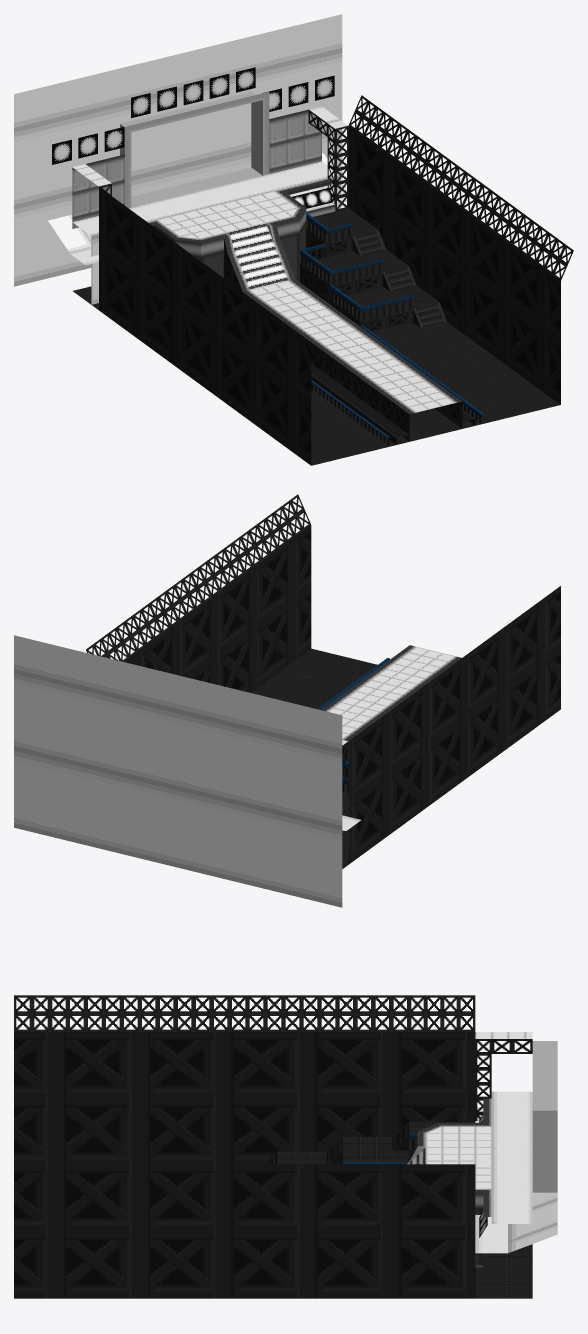
File: WALKWAYGYM2.obj
3 renders of one model, top to bottom at view 1: azimuth 30°, elevation 25°; view 2: azimuth 150°, elevation 25°; view 3: azimuth 270°, elevation 25°, orthographic. The views are drawn at different scales.
Visible parts, largest first — view 1: polygon8, polygon4, polygon6, polygon2, polygon10, polygon0, polygon7, polygon3, polygon1, polygon5, polygon9; view 2: polygon4, polygon8, polygon10, polygon6, polygon3; view 3: polygon8, polygon10, polygon4, polygon2, polygon6, polygon1, polygon0, polygon3.
Boxes of the visible parts, x1,y1,x2,y2 form: polygon8: (99, 126, 560, 465); polygon4: (14, 14, 455, 412); polygon6: (73, 286, 560, 465); polygon2: (72, 92, 335, 282); polygon10: (99, 95, 573, 280); polygon0: (300, 213, 483, 445); polygon7: (52, 67, 334, 208); polygon3: (148, 178, 461, 413); polygon1: (300, 208, 438, 321); polygon5: (227, 223, 288, 290); polygon9: (311, 363, 475, 444); polygon4: (14, 635, 455, 907); polygon8: (124, 525, 560, 864); polygon10: (86, 494, 310, 661); polygon6: (251, 648, 377, 868); polygon3: (321, 645, 461, 741); polygon8: (14, 1032, 475, 1298); polygon10: (14, 995, 532, 1120); polygon4: (425, 1032, 557, 1253); polygon2: (475, 1041, 557, 1267); polygon6: (475, 1244, 532, 1298); polygon1: (277, 1121, 475, 1164); polygon0: (263, 1122, 417, 1164); polygon3: (403, 1098, 491, 1216).
Bounding box in the file's own units: 6.25 × 3.5 × 8.5.
11 materials, 11 textured.
